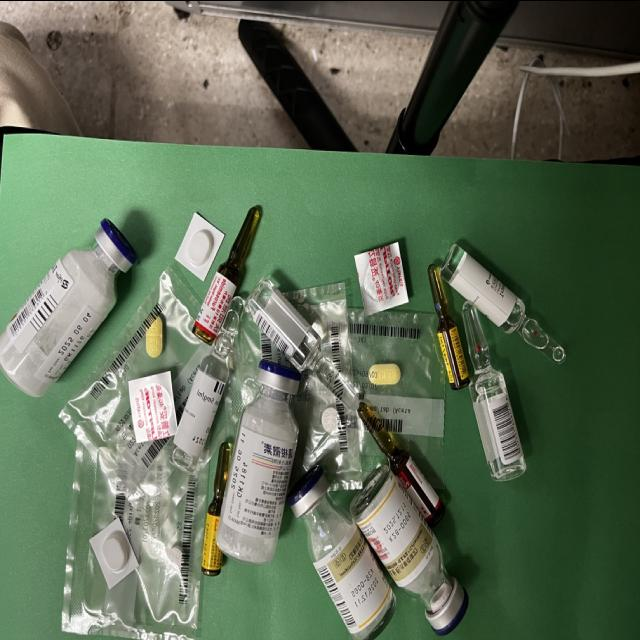Ampoules: (245, 276, 360, 410), (440, 243, 567, 363), (169, 295, 244, 473), (462, 299, 527, 481), (358, 401, 445, 528), (192, 204, 262, 345), (428, 263, 469, 389), (202, 441, 230, 575)
Vials: (0, 216, 138, 397), (350, 465, 470, 635), (288, 464, 397, 640), (216, 357, 302, 563)
